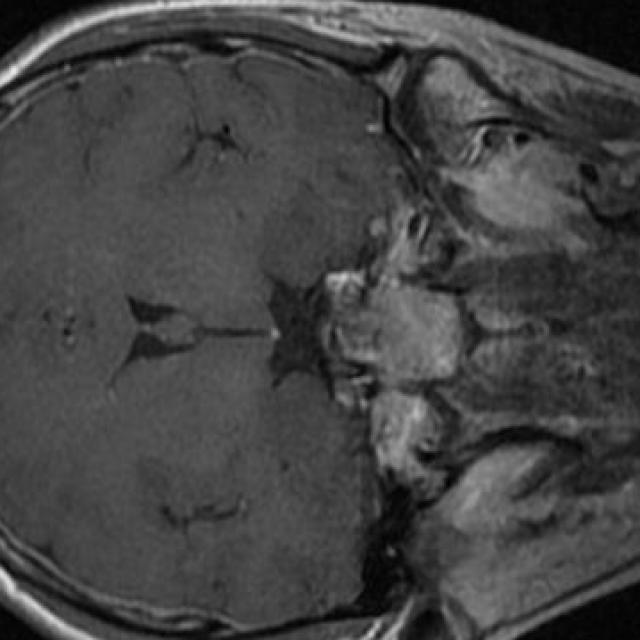pituitary: (326, 273, 371, 369)
